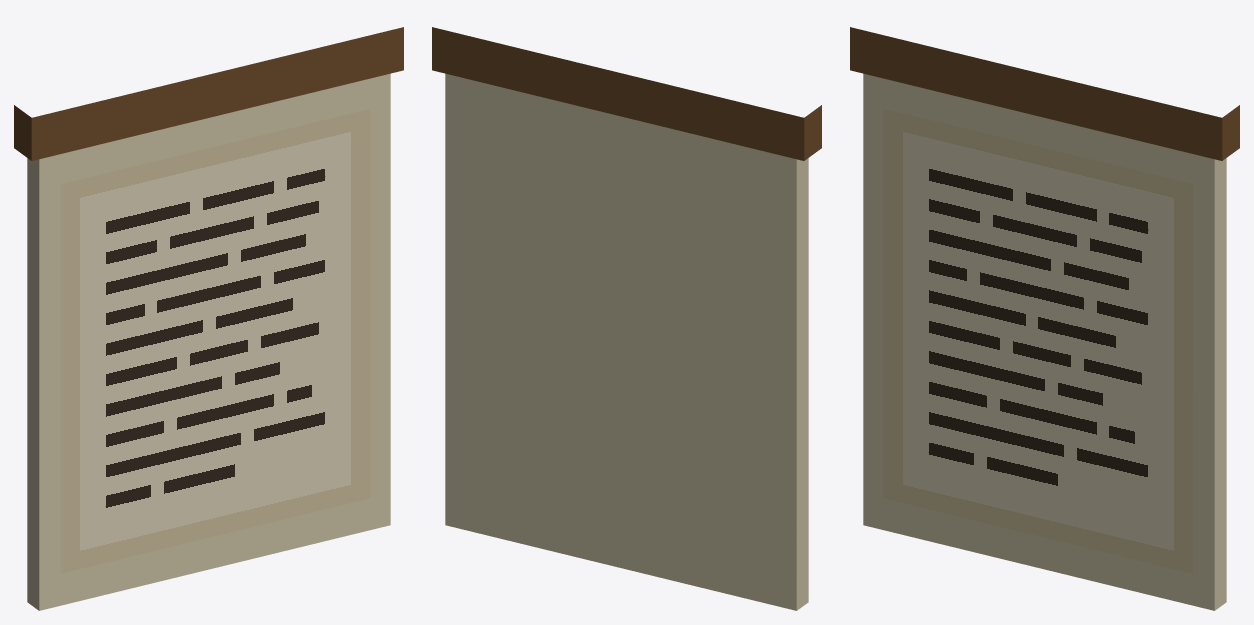
The model's file is note.glb.
3 views of the same model, side by side, from view 1: azimuth 30°, elevation 25°; view 2: azimuth 150°, elevation 25°; view 3: azimuth 330°, elevation 25° (orthographic).
Visible parts, largest first — view 1: note; view 2: note; view 3: note.
Boxes of the visible parts, bbox=[...] form: note: bbox=[14, 27, 403, 610]; note: bbox=[432, 27, 821, 610]; note: bbox=[850, 27, 1239, 610].
Size of the model in its own units: 0.3599 by 0.46 by 0.0298.
Materials: 3 (1 with a texture image).
